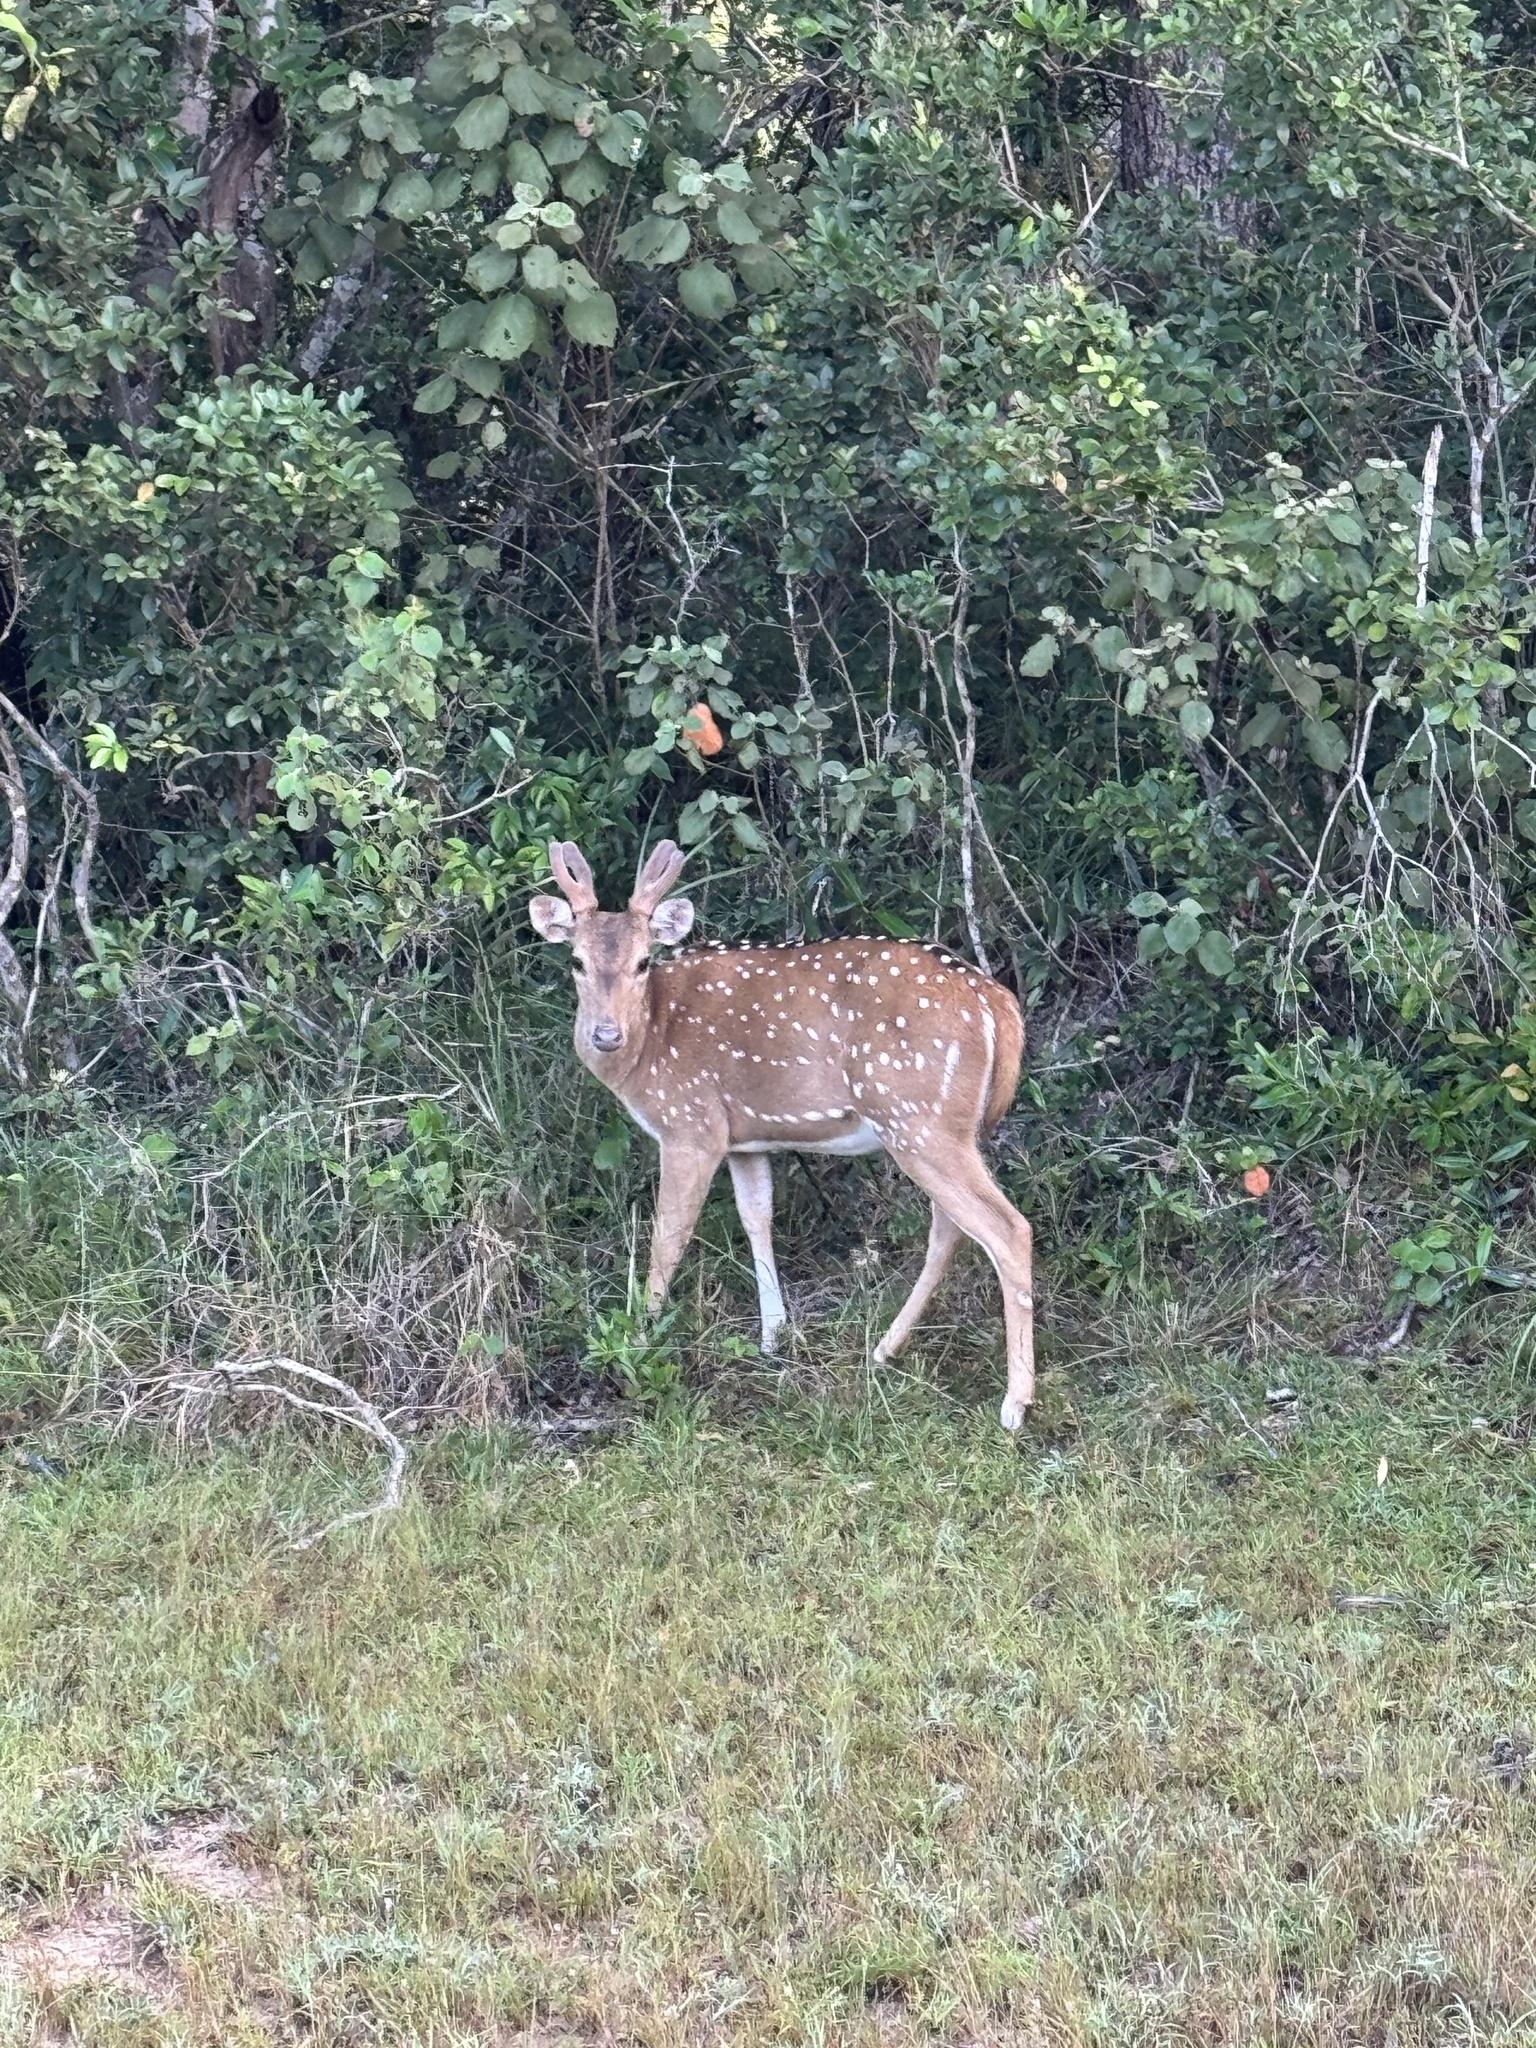Deer: (529, 840, 1034, 1429)
